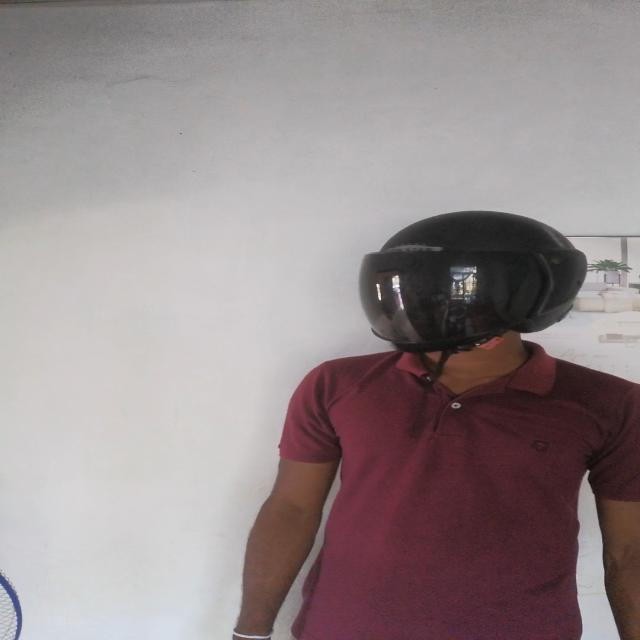Helmet_Wearer: (298, 206, 607, 406)
